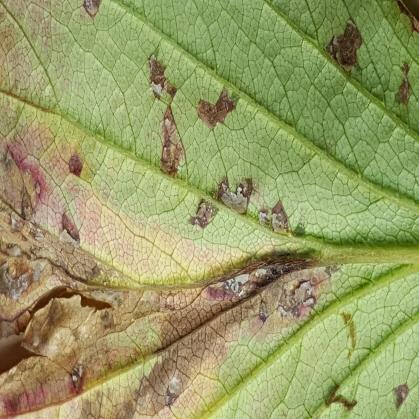Angular Leafspot: (0, 0, 418, 418)
